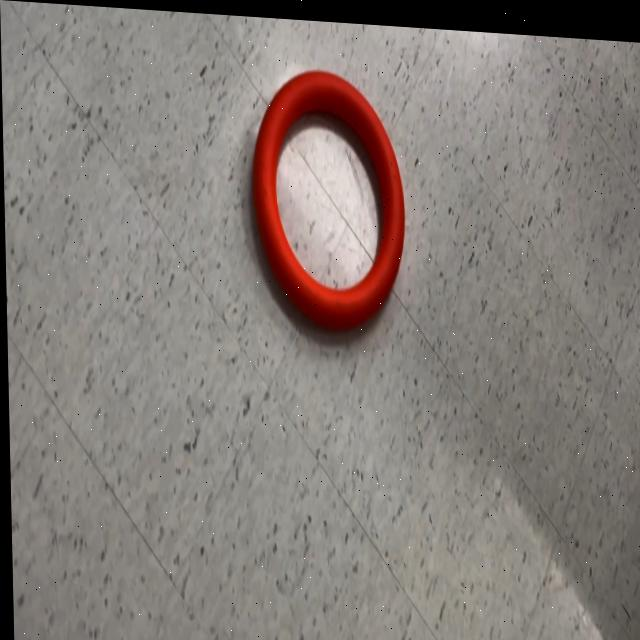note: (249, 59, 406, 325)
